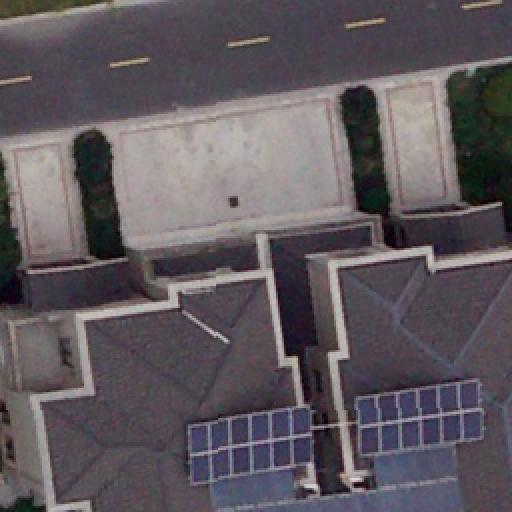solar-panel: (348, 378, 496, 455), (184, 400, 314, 486)
